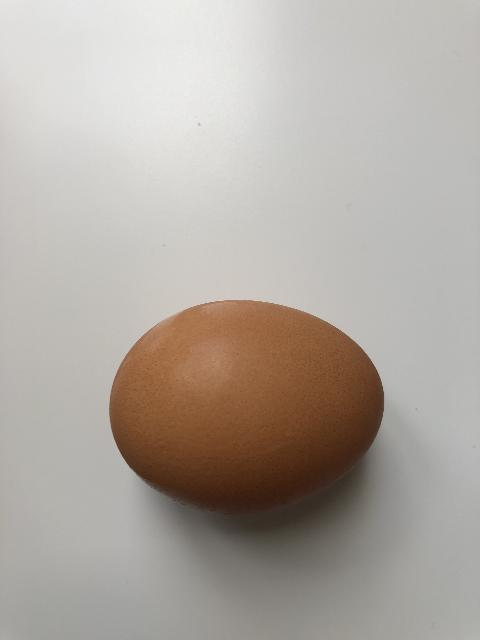Sano: (108, 297, 385, 516)
